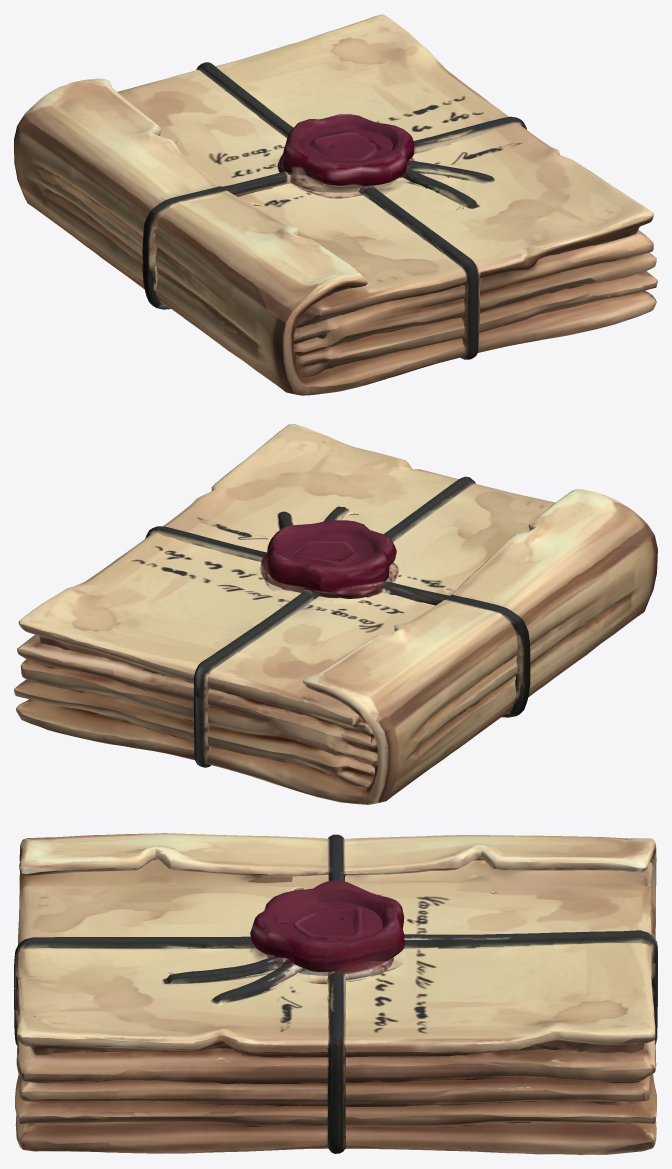
The model's file is order_packet.glb.
3 renders of one model, top to bottom at view 1: azimuth 30°, elevation 25°; view 2: azimuth 150°, elevation 25°; view 3: azimuth 270°, elevation 25°, orthographic. The views are drawn at different scales.
Parts seen in each view (by area): view 1: geometry_0; view 2: geometry_0; view 3: geometry_0.
Part boxes in pixels (box(x1,y1,x2,y2)): geometry_0: box(14, 14, 657, 395); geometry_0: box(14, 424, 657, 804); geometry_0: box(14, 833, 657, 1154).
Size of the model in its own units: 0.22 by 0.0714 by 0.2713.
1 material, 1 textured.
